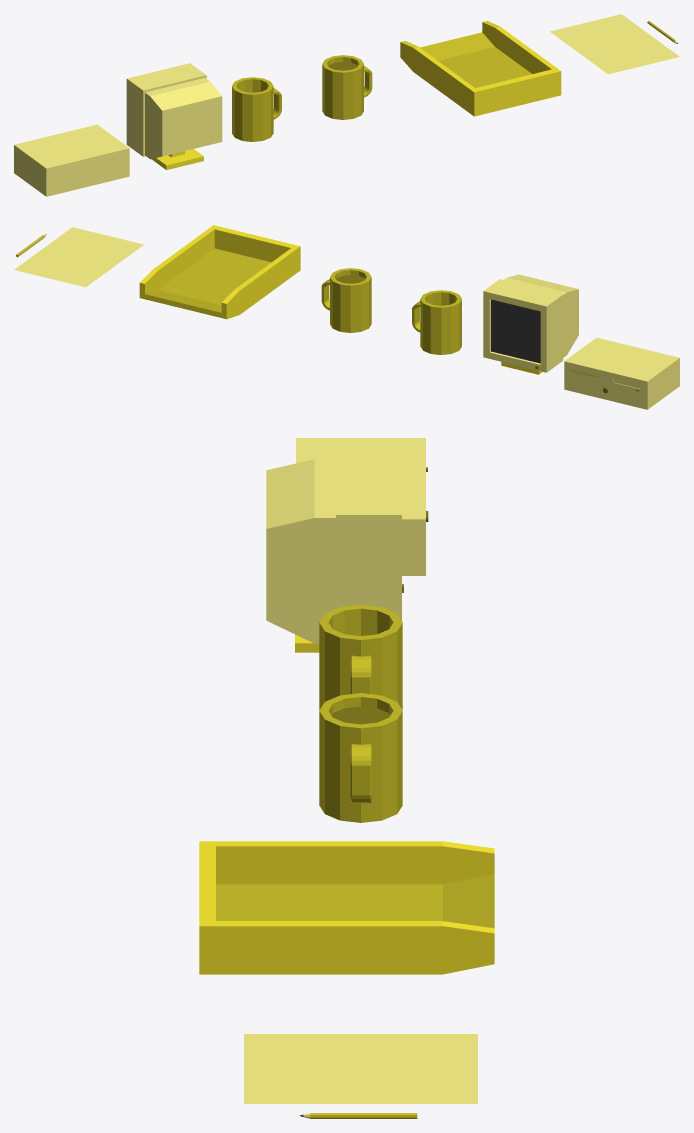
File: pack_itens.fbx
3 renders of one model, top to bottom at view 1: azimuth 30°, elevation 25°; view 2: azimuth 150°, elevation 25°; view 3: azimuth 270°, elevation 25°, orthographic. The views are drawn at different scales.
Visible parts, largest first — view 1: SeparadorDeArquivo, MonitorAntigo, PcAntigo, Papel, MeioCheio, MeioVazio; view 2: SeparadorDeArquivo, MonitorAntigo, PcAntigo, Papel, MeioCheio, MeioVazio; view 3: SeparadorDeArquivo, MonitorAntigo, Papel, MeioCheio, MeioVazio, PcAntigo.
Part boxes in pixels (box(x1,y1,x2,y2)): SeparadorDeArquivo: box(400, 21, 561, 116); MonitorAntigo: box(126, 63, 222, 169); PcAntigo: box(14, 124, 129, 196); Papel: box(550, 14, 679, 74); MeioCheio: box(322, 55, 372, 119); MeioVazio: box(232, 77, 281, 141); SeparadorDeArquivo: box(139, 225, 300, 319); MonitorAntigo: box(483, 274, 578, 374); PcAntigo: box(564, 337, 679, 409); Papel: box(14, 227, 143, 287); MeioCheio: box(321, 268, 371, 332); MeioVazio: box(412, 290, 461, 354); SeparadorDeArquivo: box(199, 841, 494, 974); MonitorAntigo: box(266, 453, 403, 652); Papel: box(244, 1034, 477, 1103); MeioCheio: box(319, 693, 402, 822); MeioVazio: box(319, 604, 402, 709); PcAntigo: box(296, 438, 428, 575).
Bounding box in the file's own units: 701 × 80.33 × 141.
